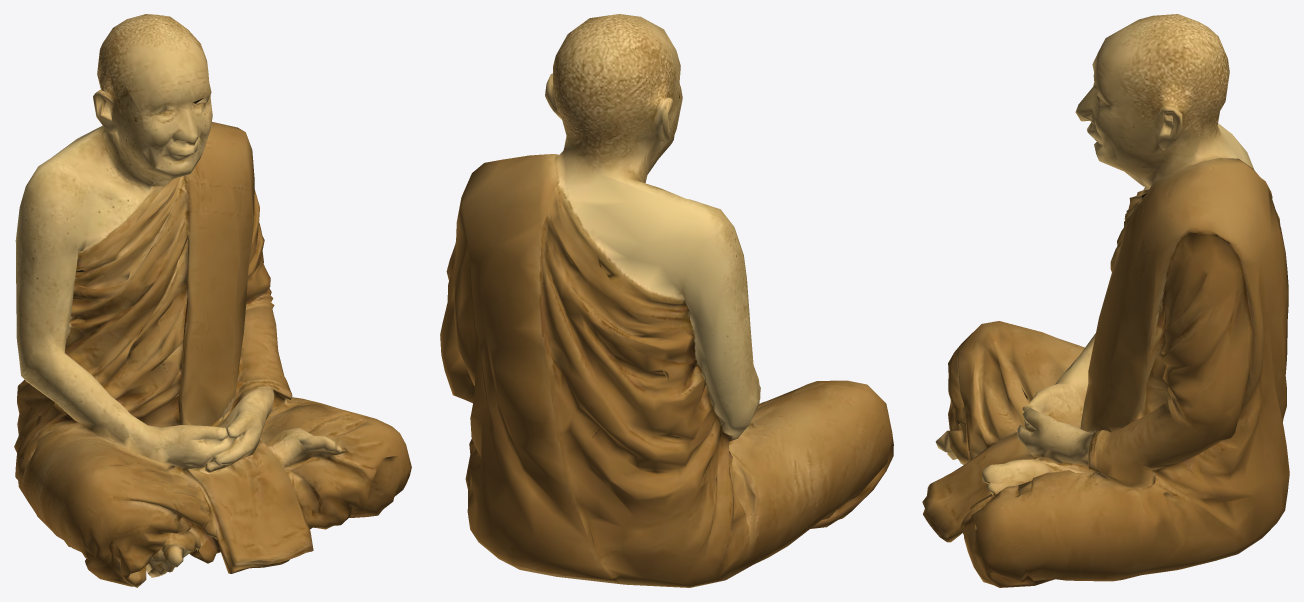
The model's file is arhat-meditate.glb.
The picture shows the model from 3 angles, left to right: view 1: azimuth 30°, elevation 25°; view 2: azimuth 150°, elevation 25°; view 3: azimuth 270°, elevation 25°; orthographic projection. The views are drawn at different scales.
Visible parts, largest first — view 1: arhat-meditate-low; view 2: arhat-meditate-low; view 3: arhat-meditate-low.
Boxes of the visible parts, x1,y1,x2,y2 form: arhat-meditate-low: [14, 14, 411, 587]; arhat-meditate-low: [440, 14, 893, 587]; arhat-meditate-low: [922, 14, 1289, 587].
Size of the model in its own units: 0.745 by 1 by 0.6637.
Materials: 1 (1 with a texture image).
